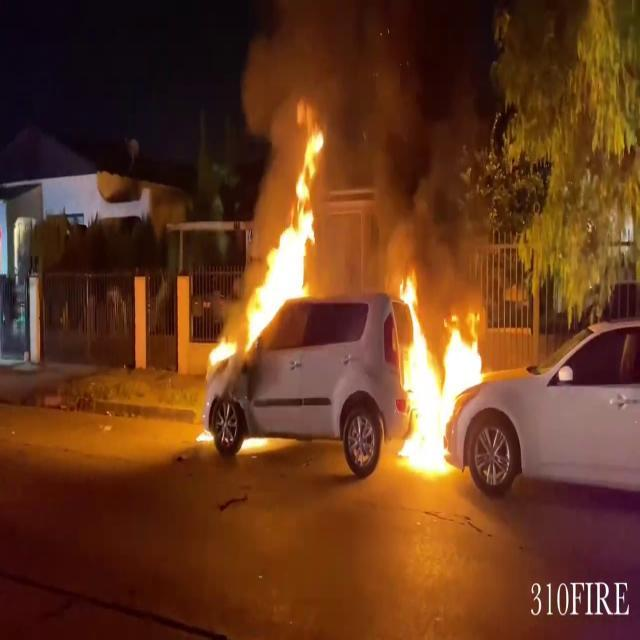Fire: (240, 98, 336, 354), (392, 266, 488, 477)
Smoke: (236, 0, 484, 275), (320, 2, 484, 279)
